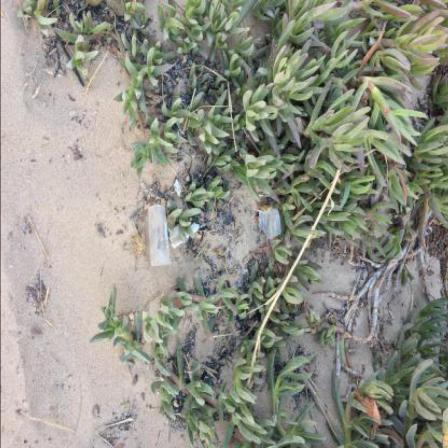Plastic bag - wrapper: (150, 207, 171, 268), (258, 207, 282, 247)
Styrofoam piece: (170, 226, 188, 250), (185, 222, 201, 240), (174, 181, 182, 198)
